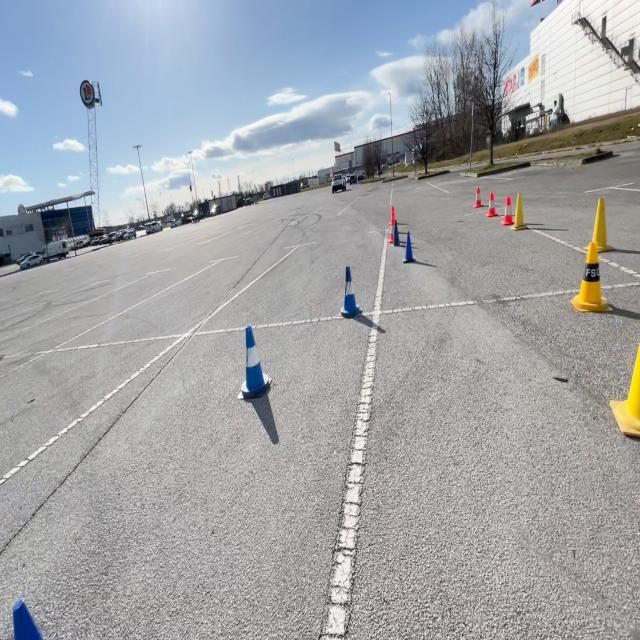blue_cone: (0, 586, 63, 639), (239, 323, 270, 399), (339, 264, 361, 317), (402, 230, 415, 263)
orange_cone: (500, 194, 516, 226), (386, 204, 399, 243), (486, 189, 498, 216), (473, 185, 485, 208)
yellow_cone: (608, 268, 640, 440), (570, 236, 606, 314), (586, 192, 610, 255), (511, 190, 527, 230)
